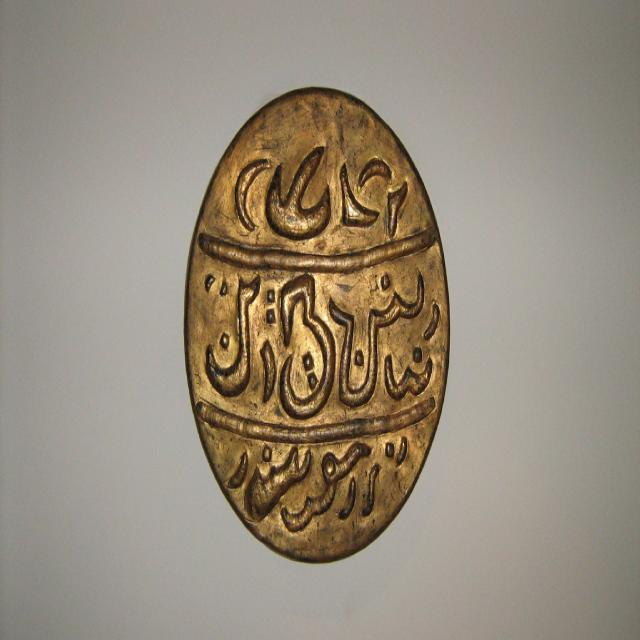Coin: (185, 84, 452, 569)
